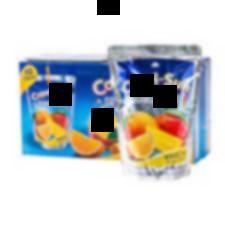cafrisun: (104, 41, 198, 190)
